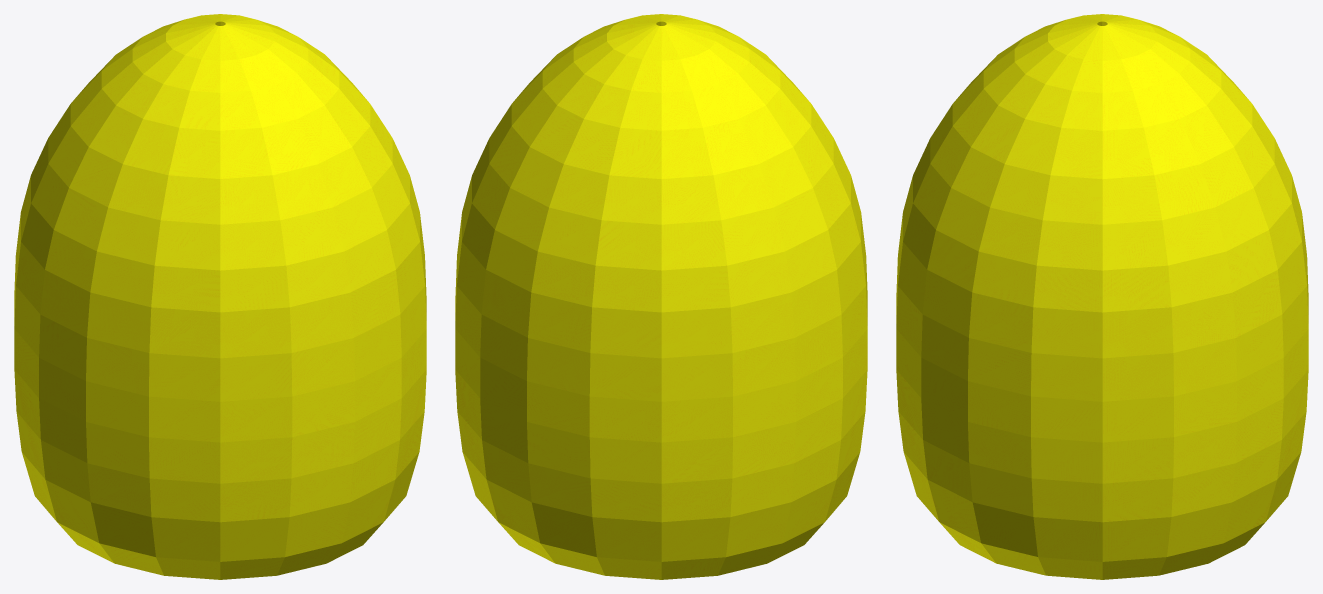
File: bugtrap_env.dae
The picture shows the model from 3 angles, left to right: view 1: azimuth 30°, elevation 25°; view 2: azimuth 150°, elevation 25°; view 3: azimuth 270°, elevation 25°; orthographic projection.
Visible parts, largest first — view 1: instance_1; view 2: instance_1; view 3: instance_1.
Boxes of the visible parts, x1=… form: instance_1: x1=14, y1=14, x2=426, y2=579; instance_1: x1=455, y1=14, x2=867, y2=579; instance_1: x1=896, y1=14, x2=1308, y2=579.
Size of the model in its own units: 26.96 by 26.53 by 35.06.
